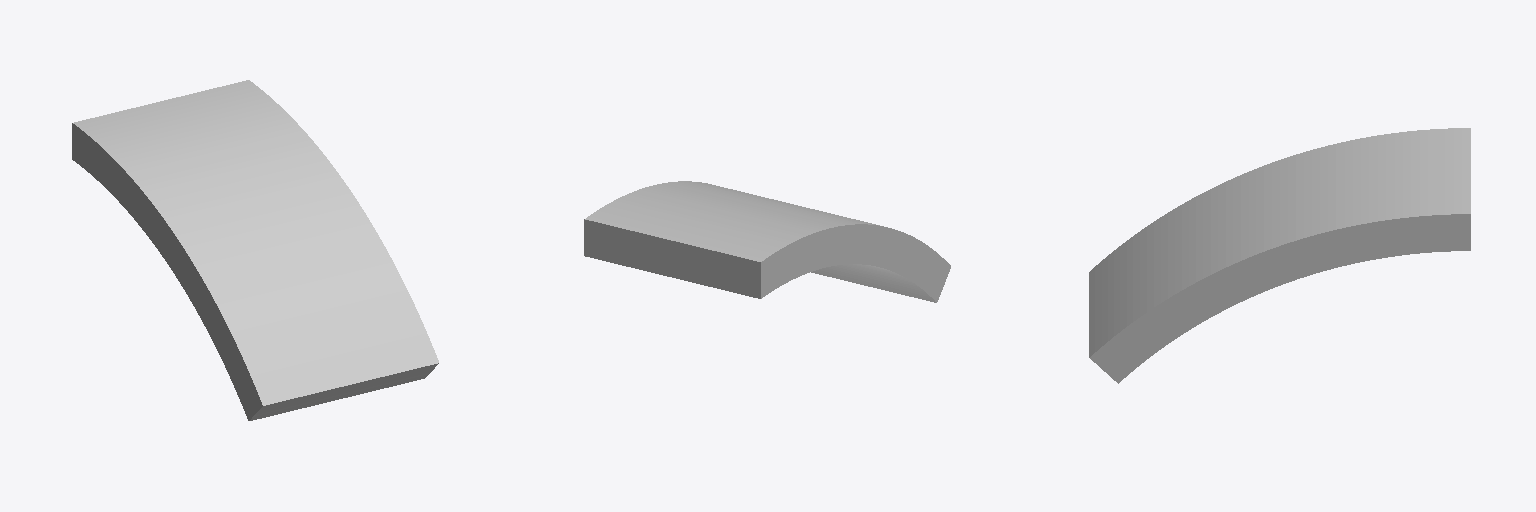
The model's file is tri100.obj.
3 views of the same model, side by side, from view 1: azimuth 30°, elevation 25°; view 2: azimuth 150°, elevation 25°; view 3: azimuth 270°, elevation 25° (orthographic).
Parts seen in each view (by area): view 1: Box001; view 2: Box001; view 3: Box001.
Boxes of the visible parts, x1=… form: Box001: x1=72, y1=80, x2=438, y2=420; Box001: x1=584, y1=181, x2=950, y2=302; Box001: x1=1089, y1=128, x2=1470, y2=383.
Size of the model in its own units: 25 by 22.99 by 46.76.